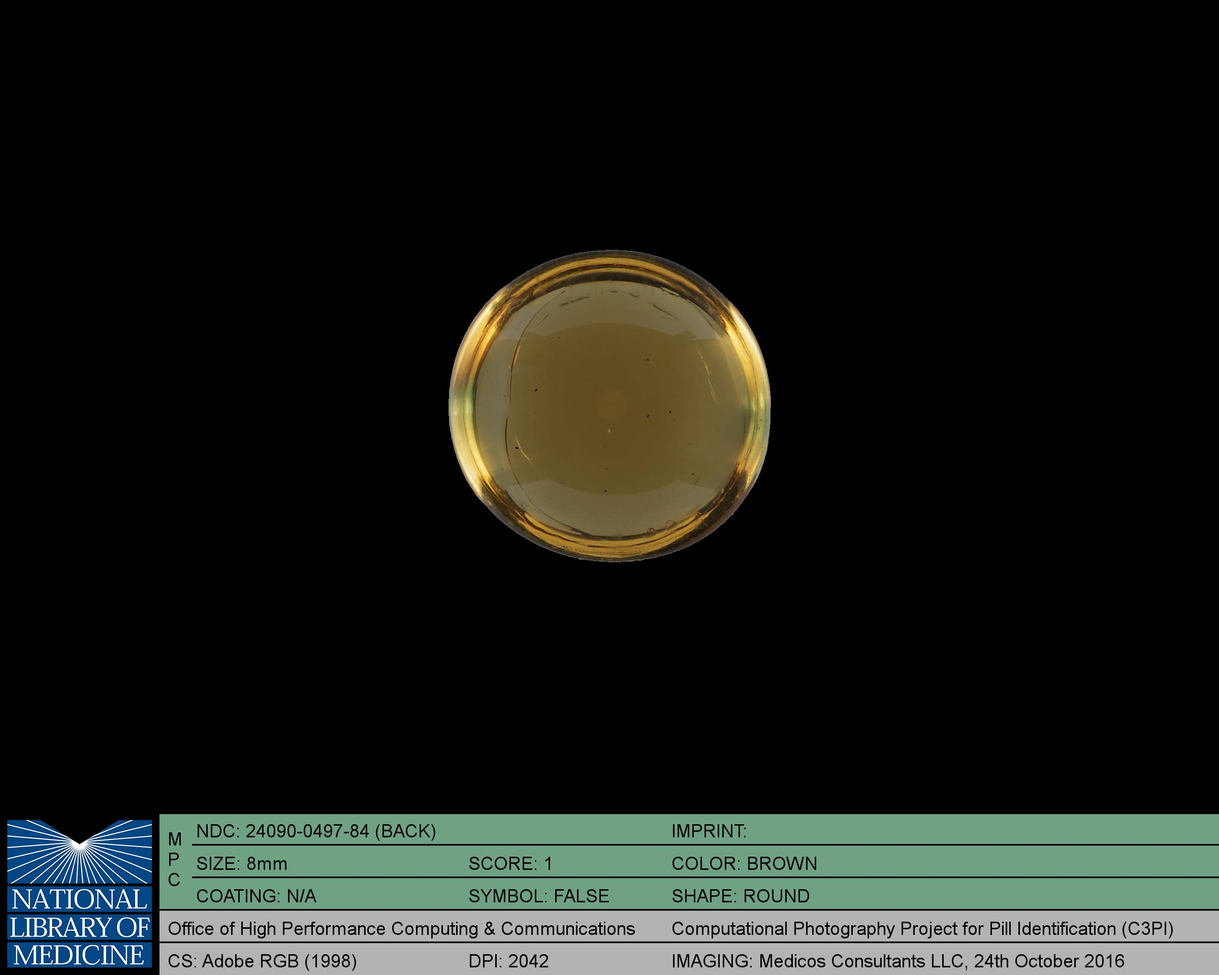Pill: (435, 237, 782, 569)
